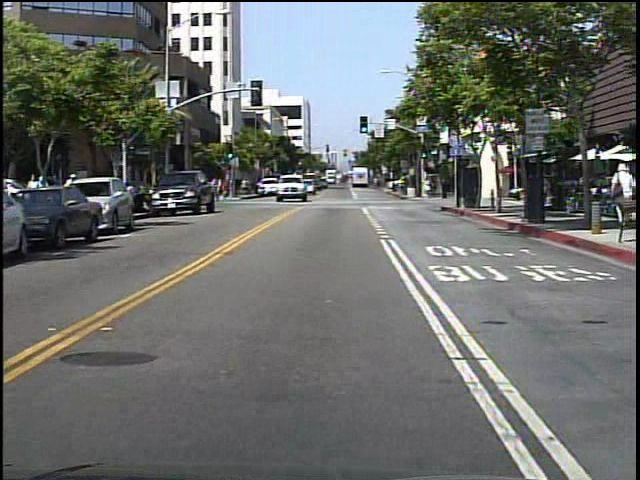person: (604, 158, 636, 230), (214, 175, 225, 204), (421, 176, 432, 200)
